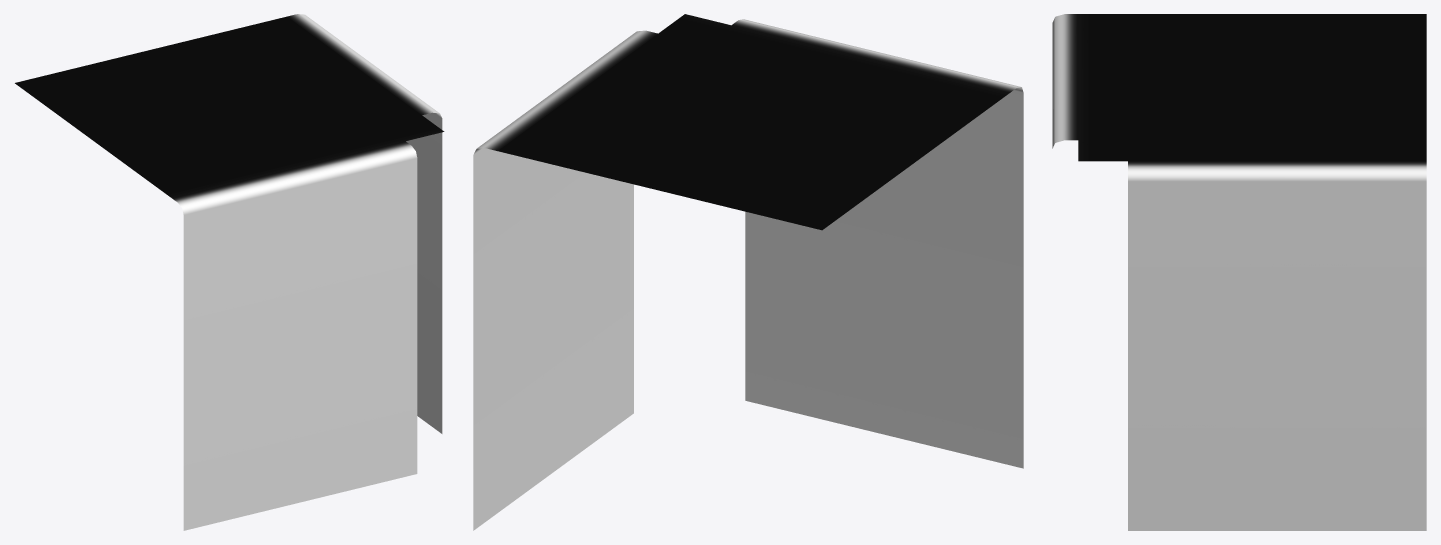
The model's file is bossRoomWater_MESH.fbx.
3 renders of one model, left to right at view 1: azimuth 30°, elevation 25°; view 2: azimuth 150°, elevation 25°; view 3: azimuth 270°, elevation 25°, orthographic. The views are drawn at different scales.
Parts seen in each view (by area): view 1: base2_room4; view 2: base2_room4; view 3: base2_room4.
Part boxes in pixels (<box>): base2_room4: <box>15,14,444,530</box>; base2_room4: <box>473,14,1023,530</box>; base2_room4: <box>1052,14,1426,530</box>.
Size of the model in its own units: 7.52 by 7.95 by 7.52.
